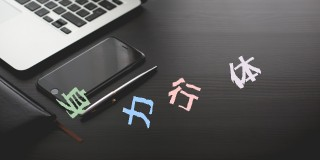体: (228, 54, 262, 89)
力: (120, 93, 155, 129)
行: (167, 74, 202, 113)
身: (53, 85, 90, 119)
